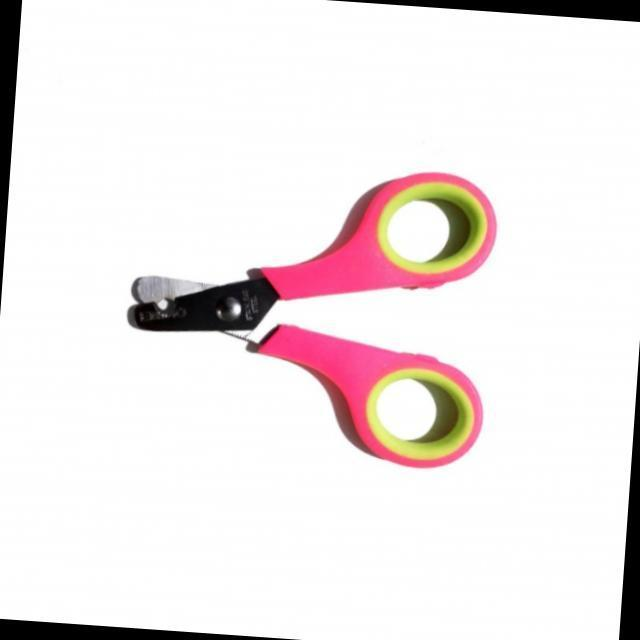scissors: (90, 130, 538, 492)
